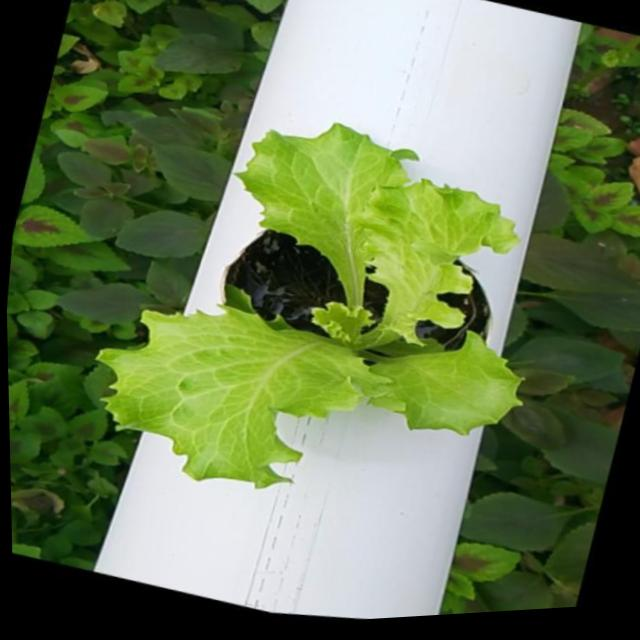Baby: (121, 127, 545, 490)
